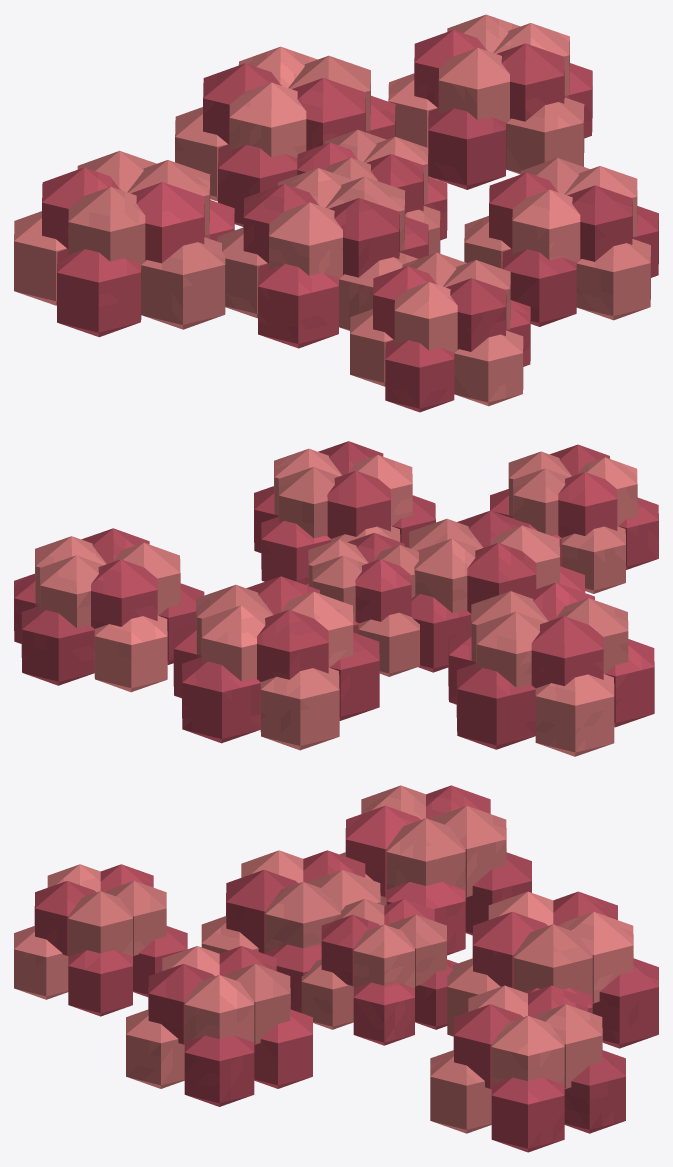
Rendered from raspberries.glb.
3 views of the same model, one above another, from view 1: azimuth 30°, elevation 25°; view 2: azimuth 150°, elevation 25°; view 3: azimuth 270°, elevation 25° (orthographic). The views are drawn at different scales.
Visible parts, largest first — view 1: block_individual drupelet (×60); view 2: block_individual drupelet (×56); view 3: block_individual drupelet (×53).
Part boxes in pixels (<box>): block_individual drupelet (×60): <box>14,14,658,412</box>; block_individual drupelet (×56): <box>14,441,658,756</box>; block_individual drupelet (×53): <box>14,785,658,1152</box>.
Bounding box in the file's own units: 0.1084 × 0.0237 × 0.1038.
Materials: 1 (1 with a texture image).
